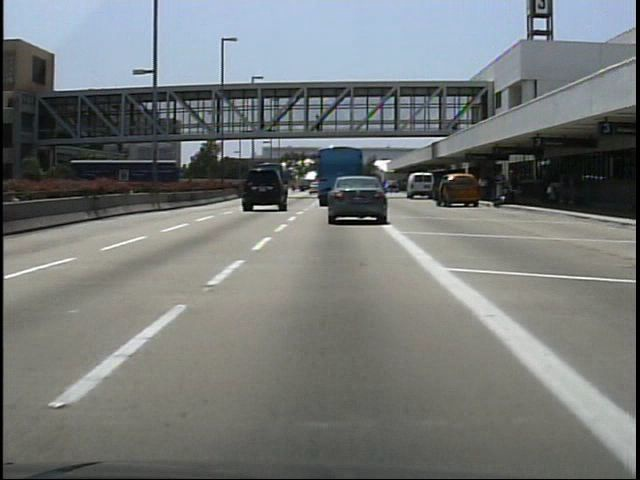person: (441, 177, 459, 214), (254, 111, 269, 134), (313, 113, 326, 139)
